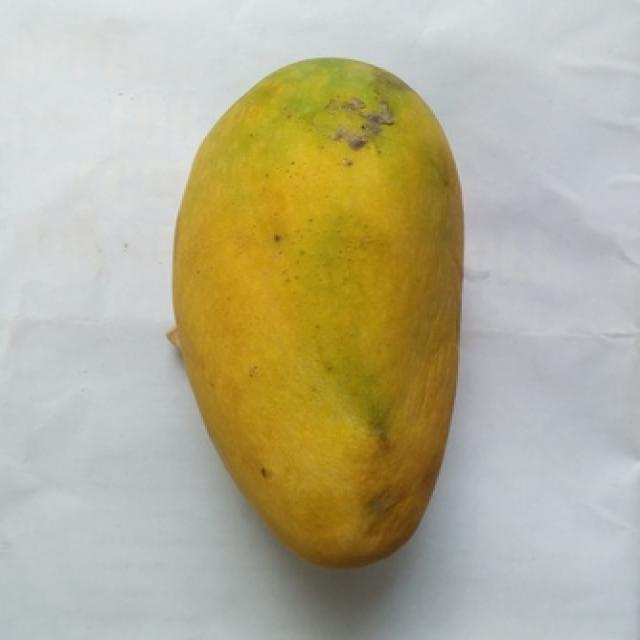Mango: (172, 59, 462, 565)
